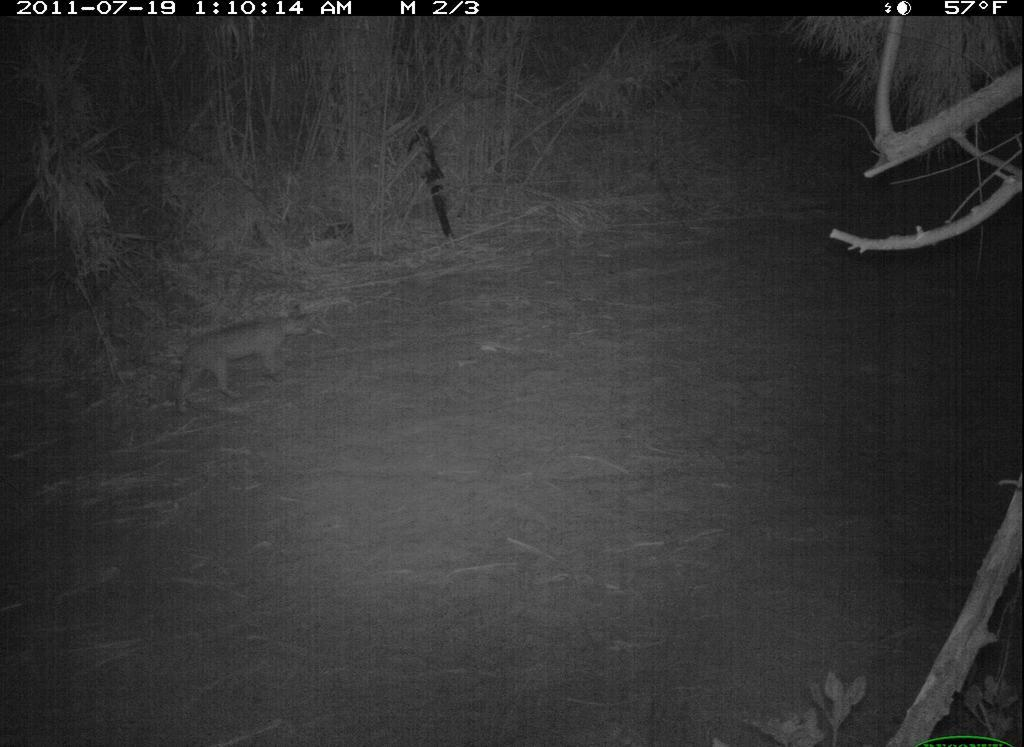bobcat: (162, 295, 327, 423)
